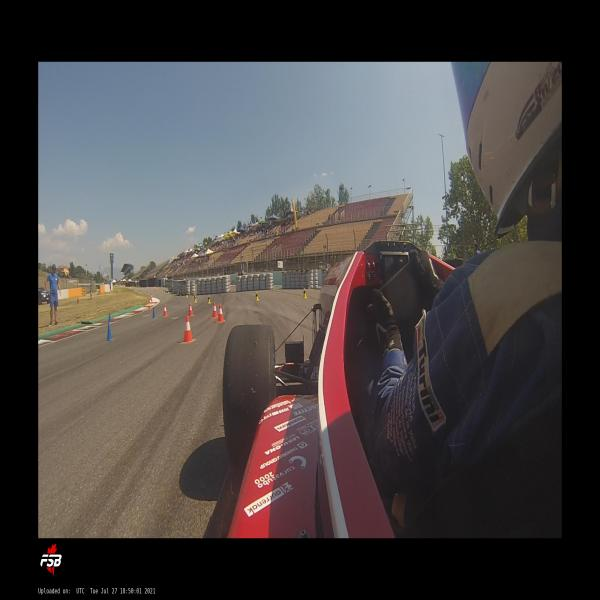orange_cone: (181, 316, 196, 344), (217, 304, 225, 323), (212, 302, 218, 319), (162, 304, 169, 317), (189, 303, 194, 317), (149, 302, 151, 308)
unknown_cone: (107, 323, 112, 341), (153, 307, 155, 319), (108, 312, 110, 322)
yellow_cone: (302, 288, 308, 298), (255, 291, 260, 301), (207, 294, 212, 304), (194, 294, 197, 302), (186, 291, 188, 298), (194, 293, 195, 300)
